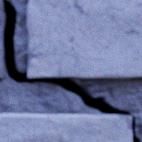brick: (27, 0, 141, 78), (0, 113, 130, 141), (0, 0, 3, 79)
crack: (2, 0, 141, 141)
